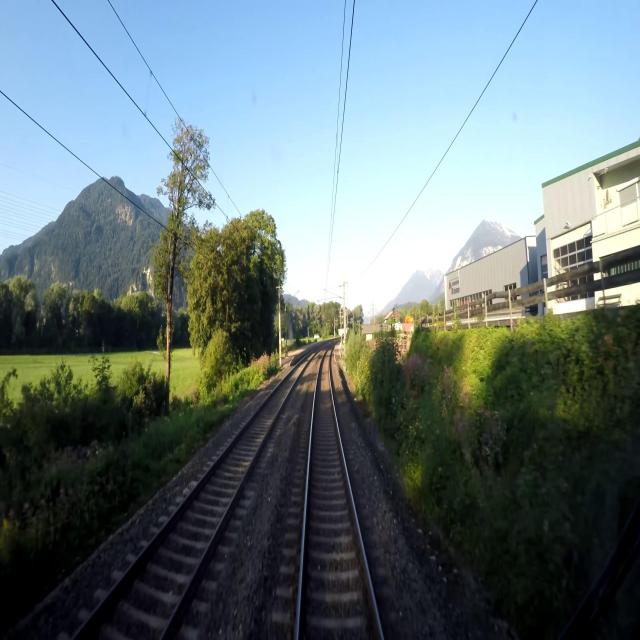rail-track: (76, 359, 306, 639), (299, 350, 379, 639)
